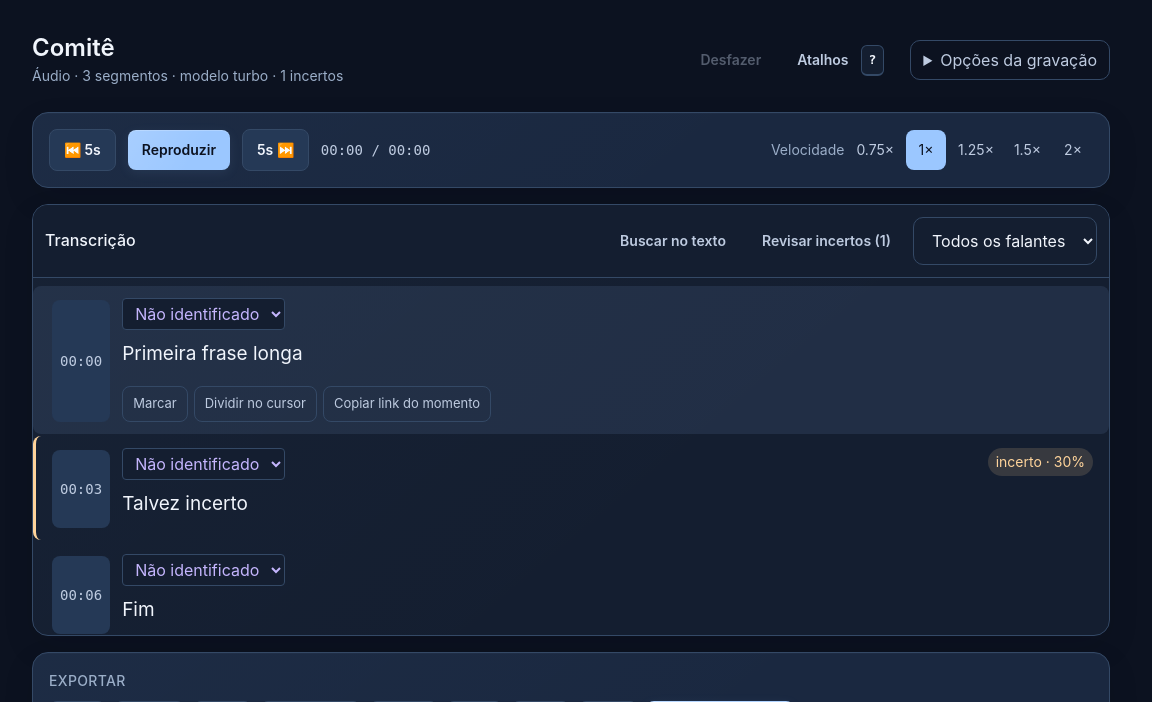
Test: merges a shift-selected range and assigns a speaker to the selection
Click the button named "Ir para 00:03" at (81, 489), box [52, 450, 110, 528]
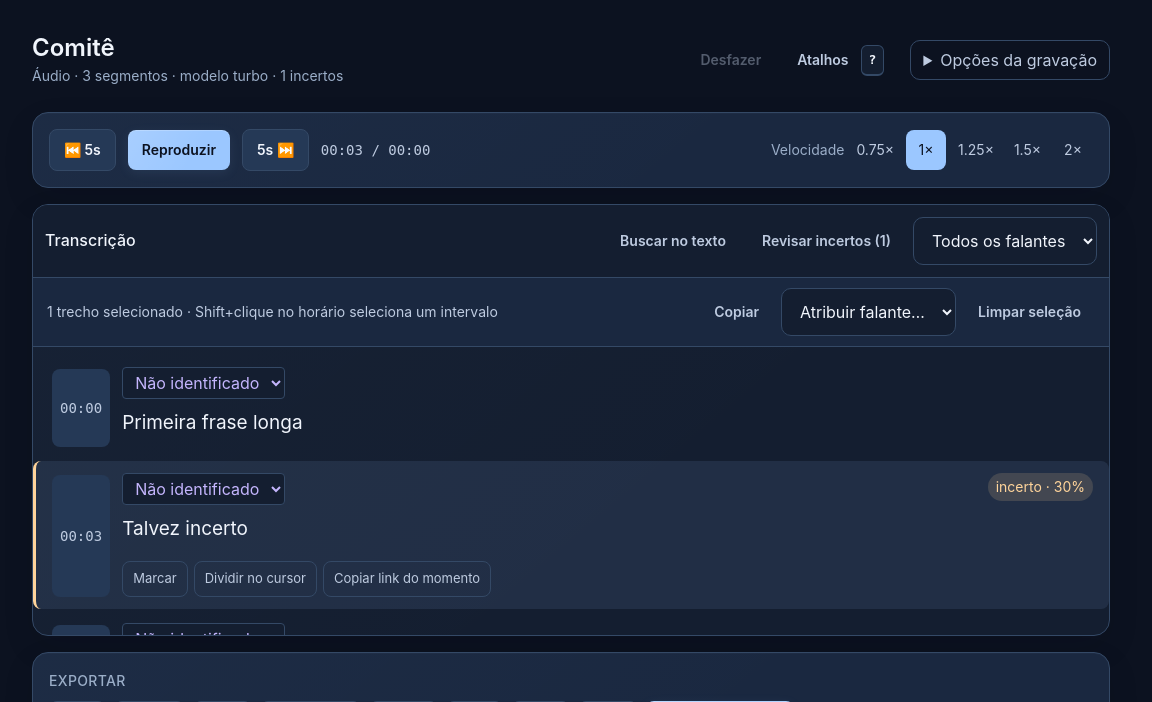
Click the button named "Ir para 00:00" at (81, 408), box [52, 369, 110, 447]
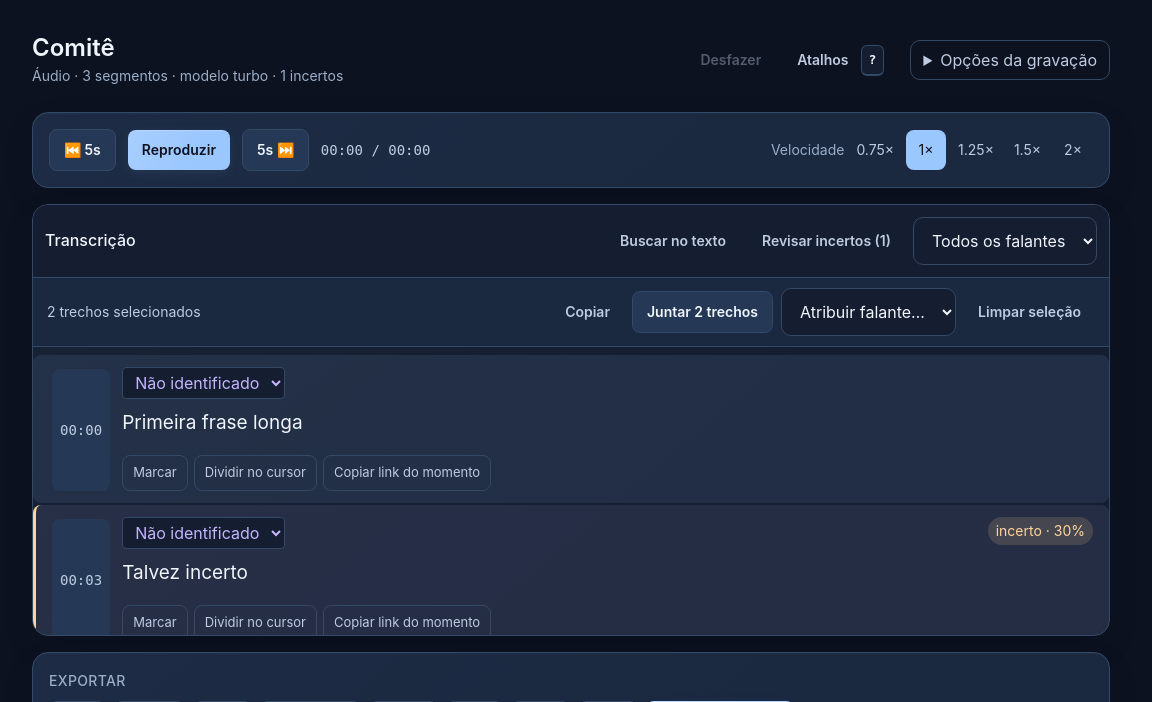
Now the text "2 trechos selecionados" is shown, box [47, 300, 201, 324]
Click the button "Juntar 2 trechos" at (703, 312), box [632, 291, 773, 333]
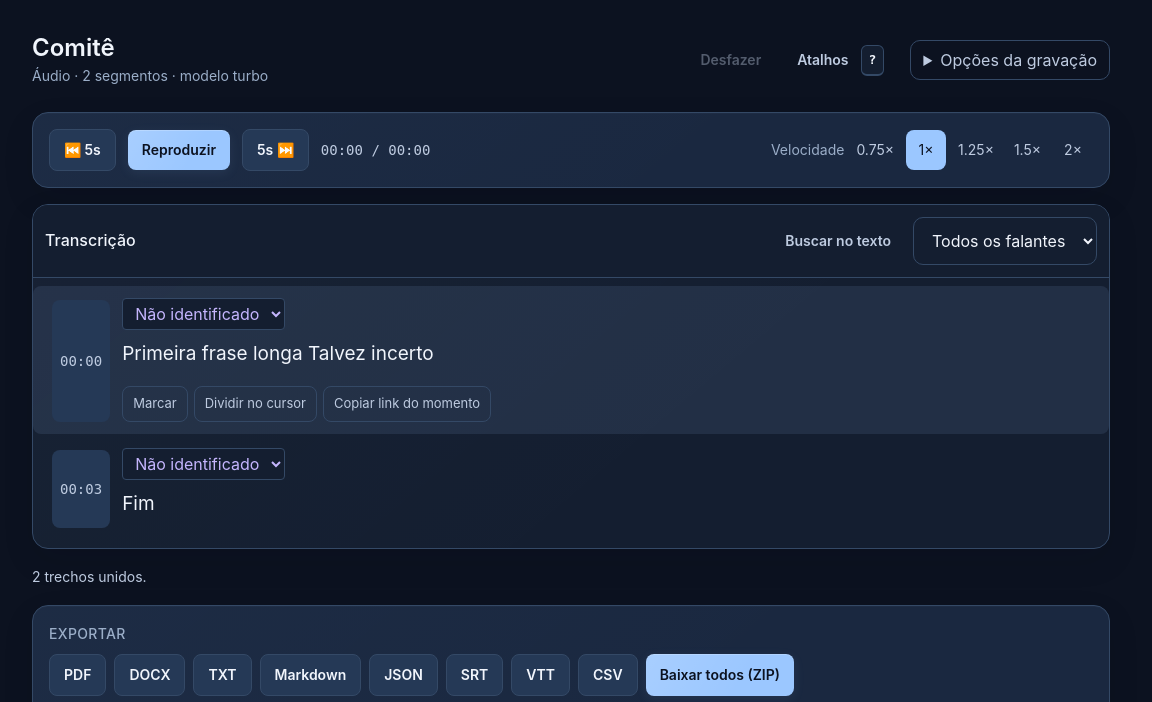
Now the text "2 trechos unidos." is shown, box [32, 568, 147, 585]
Click the button named "Ir para 00:03" at (81, 489), box [52, 450, 110, 528]
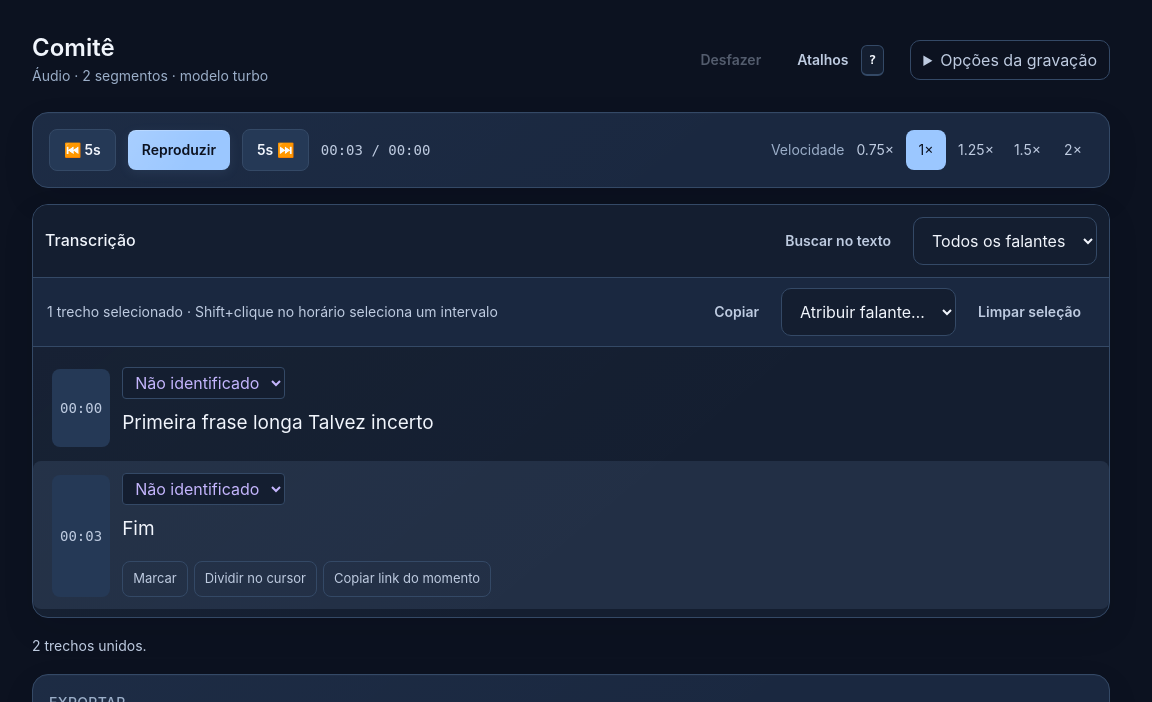
Select "Ana" in the dropdown named "Atribuir falante à seleção" at (868, 312), box [781, 288, 956, 336]
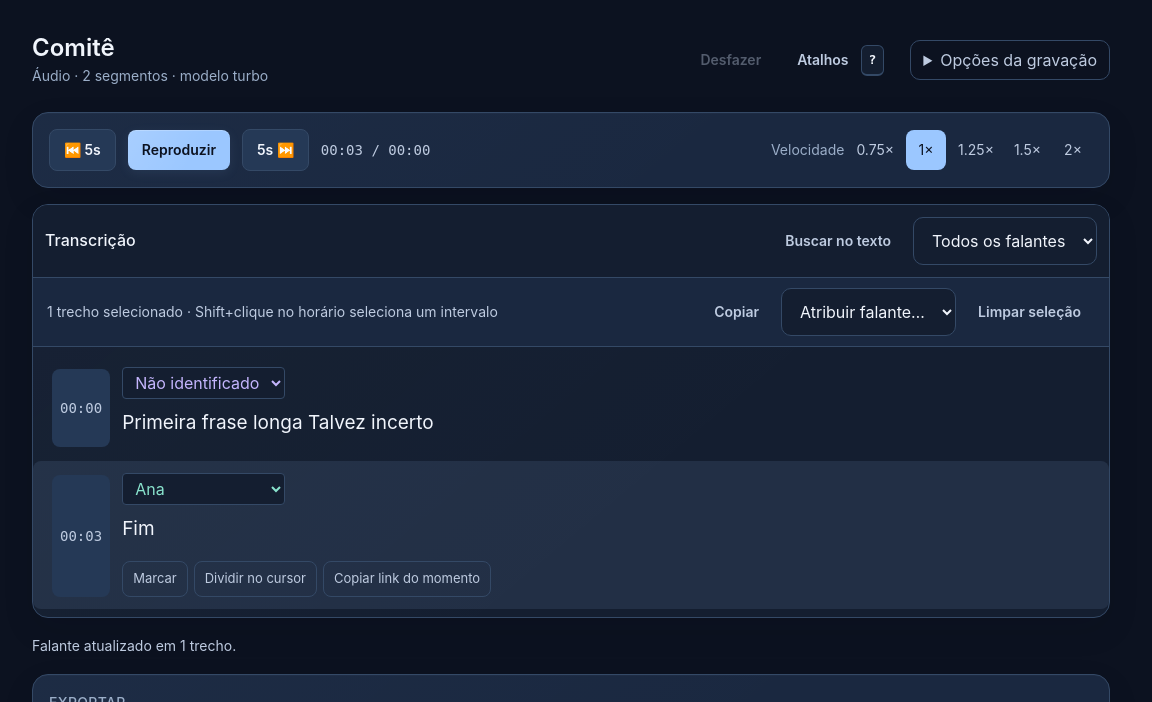
Now the text "Falante atualizado em 1 trecho." is shown, box [32, 637, 236, 654]
